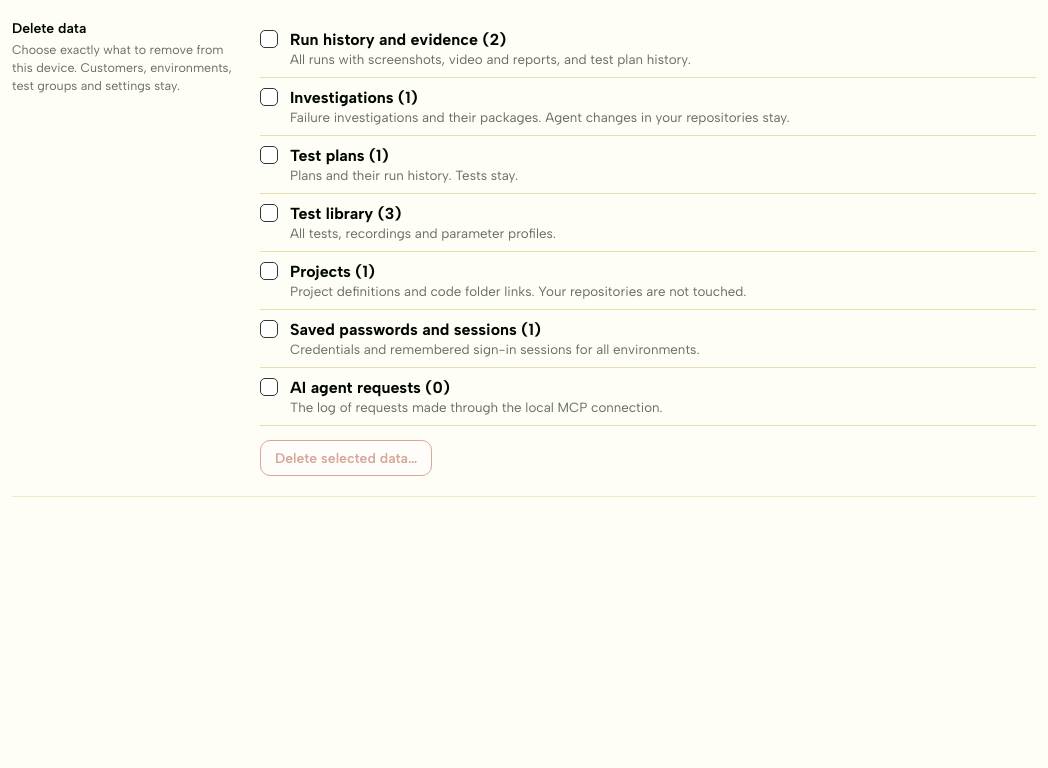
Test: DataDeletionSection › sends the dependency-closed categories and reports the result
Click the checkbox labelled "Run history and evidence" at (269, 39), box [260,30,278,48]
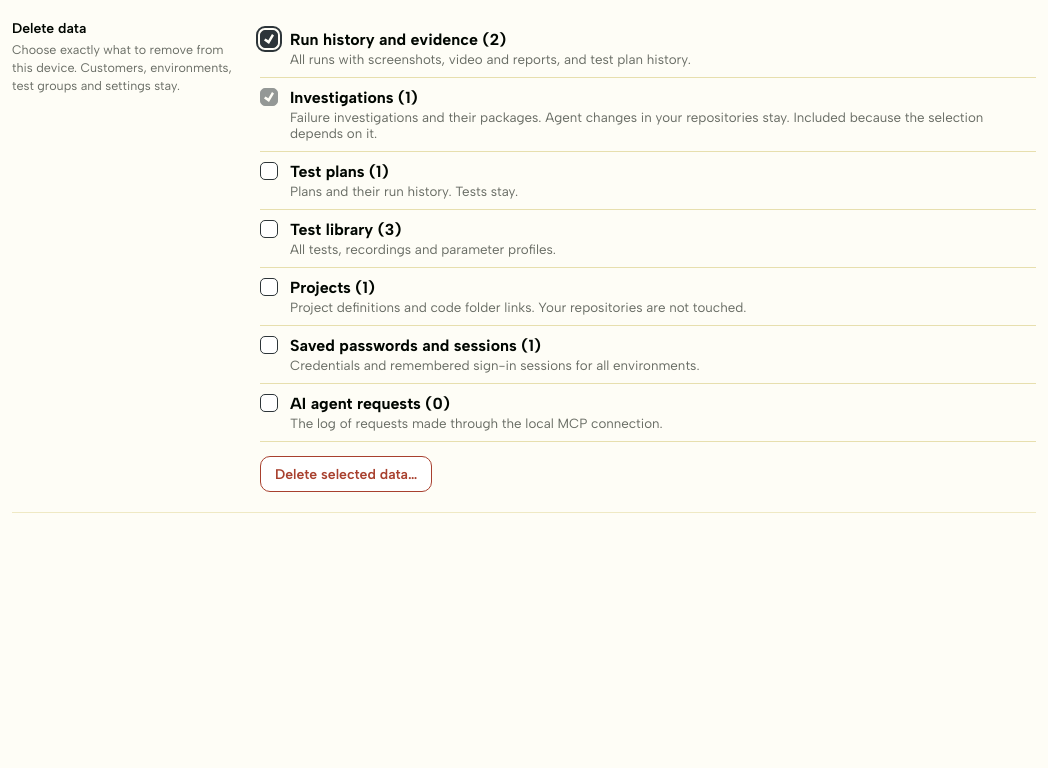
Click the button "Delete selected data…" at (346, 474), box [260,456,432,492]
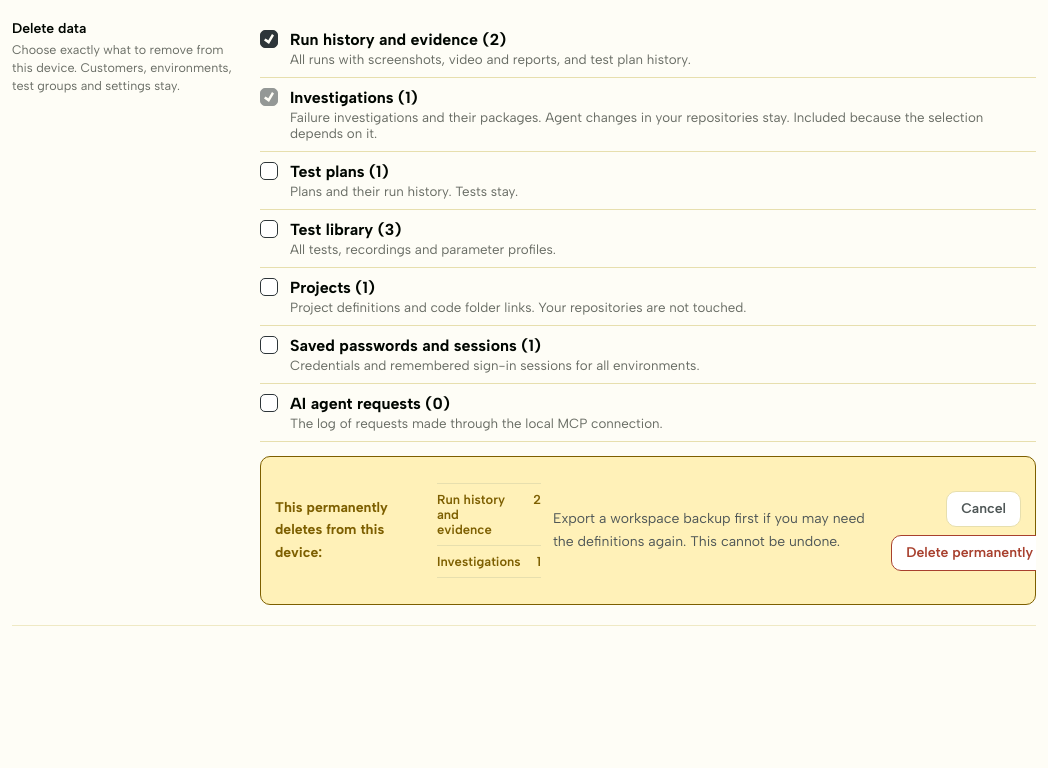
Click the button "Delete permanently" at (964, 552), box [891,534,1036,570]
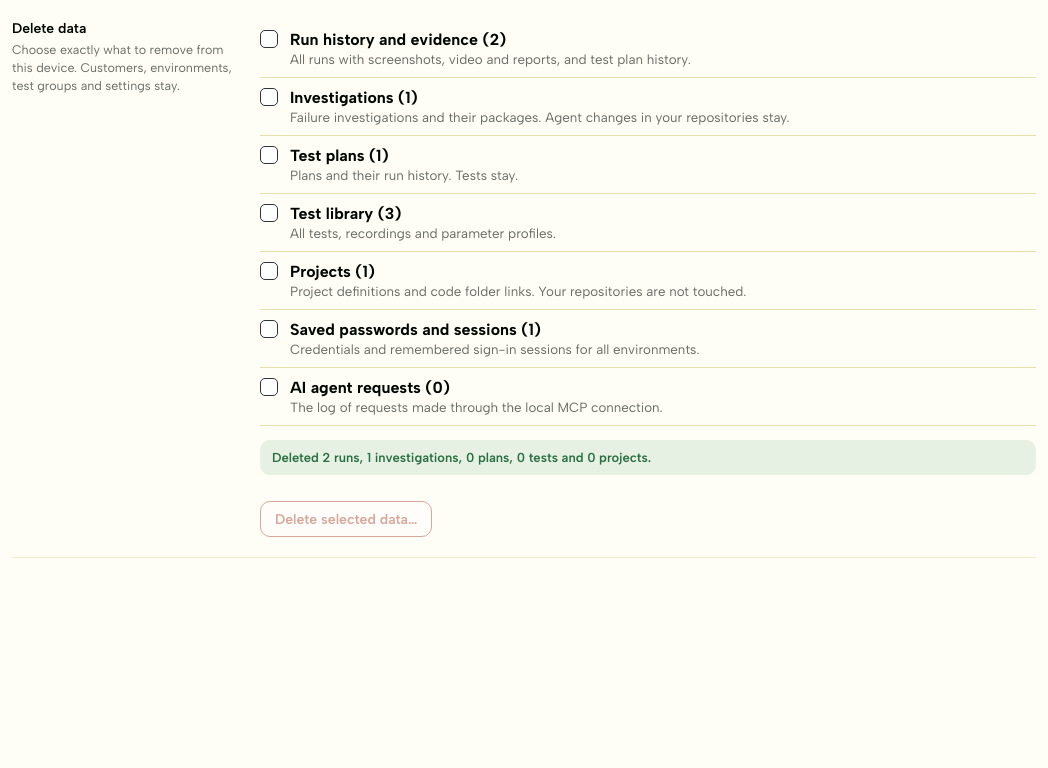
Now the text "Deleted 2 runs, 1 investigations" is shown, box [272,450,651,465]
